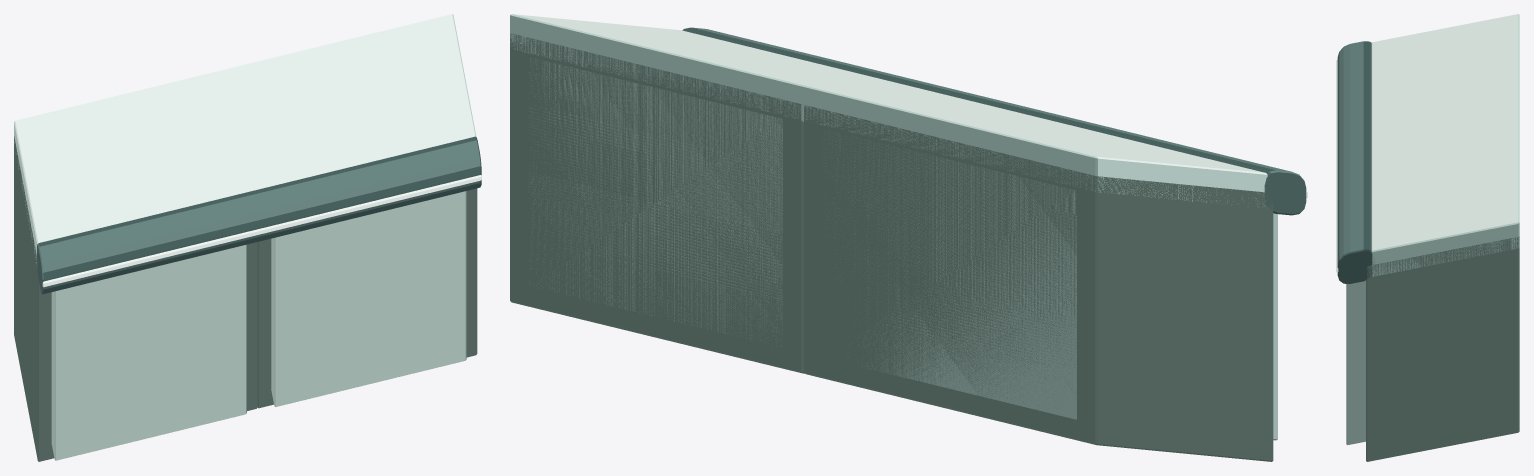
Rendered from Terrain_TopRun2.gltf.
3 renders of one model, left to right at view 1: azimuth 30°, elevation 25°; view 2: azimuth 150°, elevation 25°; view 3: azimuth 270°, elevation 25°, orthographic. The views are drawn at different scales.
Visible parts, largest first — view 1: Terrain_TopRun2_baked; view 2: Terrain_TopRun2_baked; view 3: Terrain_TopRun2_baked.
Part boxes in pixels (<box>): Terrain_TopRun2_baked: <box>14,14,481,461</box>; Terrain_TopRun2_baked: <box>510,14,1307,461</box>; Terrain_TopRun2_baked: <box>1336,14,1519,461</box>.
Size of the model in its own units: 2.29 by 1.18 by 0.74.
